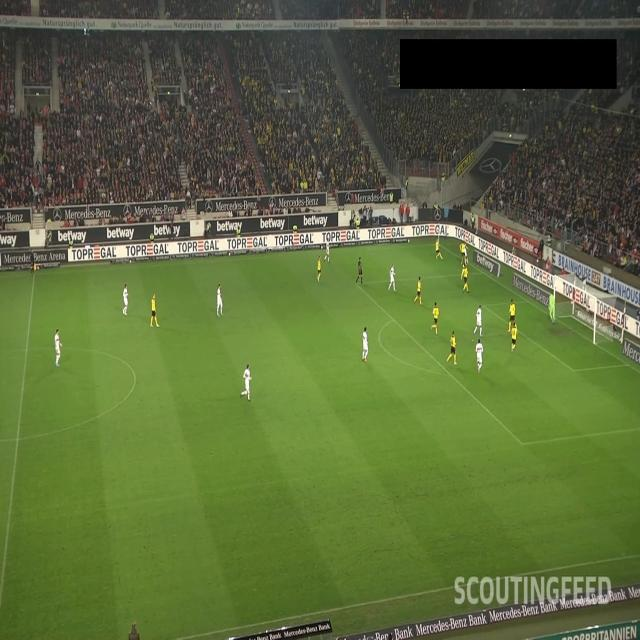ball: (462, 262, 465, 269)
